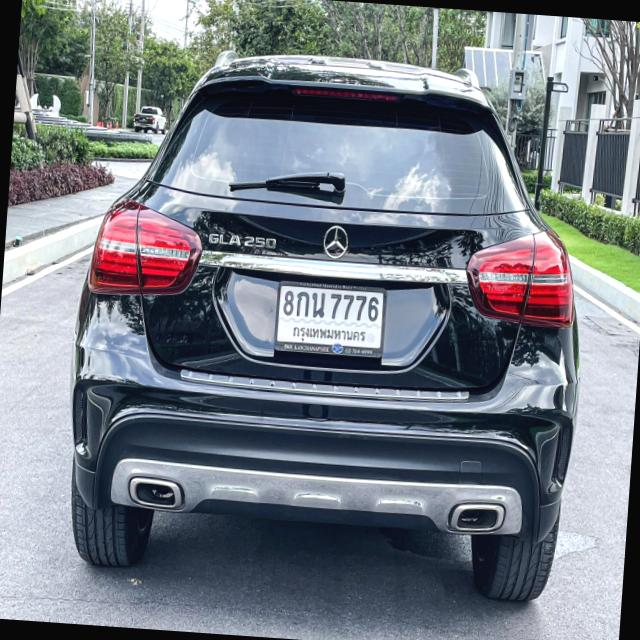license_plate: (272, 277, 390, 361)
